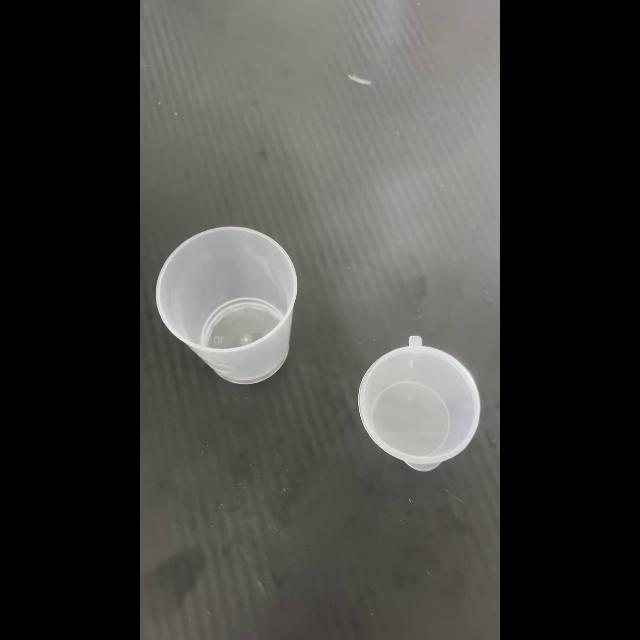clean: (154, 227, 298, 381), (358, 338, 482, 468)
